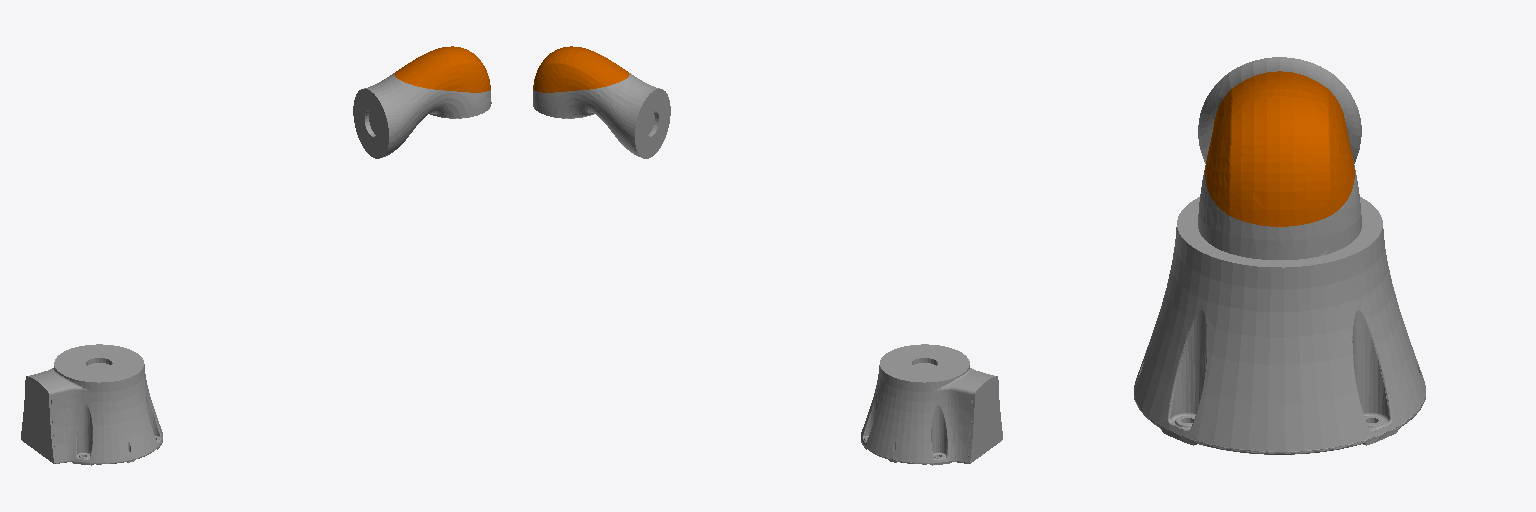
URDF robot description (kuka_kr5_arc):
<?xml version="1.0" encoding="utf-8"?>
<!-- =================================================================================== -->
<!-- |    This document was autogenerated by xacro from kr5_arc.xacro                  | -->
<!-- |    EDITING THIS FILE BY HAND IS NOT RECOMMENDED                                 | -->
<!-- =================================================================================== -->
<robot name="kuka_kr5_arc">
  <!-- LINKS -->
  <!-- base link -->
  <link name="base_link">
    <inertial>
      <origin rpy="0 0 0" xyz="-0.017519394031846 8.11394768450848E-07 0.0975924044854325"/>
      <mass value="7.58585707666653"/>
      <inertia ixx="0.0441803207364147" ixy="5.37433593375545E-07" ixz="0.004045564920652" iyy="0.0584309411563095" iyz="-4.8990117845347E-07" izz="0.0514875586171667"/>
    </inertial>
    <visual>
      <origin rpy="0 0 0" xyz="0 0 0"/>
      <geometry>
        <mesh filename="./meshes/kr5_arc/visual/base_link.dae"/>
      </geometry>
    </visual>
    <collision>
      <origin rpy="0 0 0" xyz="0 0 0"/>
      <geometry>
        <mesh filename="./meshes/kr5_arc/collision/base_link.stl"/>
      </geometry>
    </collision>
  </link>
  <!-- link 1 (A1) -->
  <link name="link_1">
    <inertial>
      <origin rpy="0 0 0" xyz="0.0359968408135882 0.00783796591813503 -0.0864969937502713"/>
      <mass value="5.77242340173648"/>
      <inertia ixx="0.0327019582662897" ixy="-0.00189987845379704" ixz="0.00937014136132958" iyy="0.0373787564144547" iyz="-0.00197023031658988" izz="0.0348614383349291"/>
    </inertial>
    <visual>
      <origin rpy="0 0 0" xyz="0 0 0"/>
      <geometry>
        <mesh filename="./meshes/kr5_arc/visual/link_1.dae"/>
      </geometry>
    </visual>
    <collision>
      <origin rpy="0 0 0" xyz="0 0 0"/>
      <geometry>
        <mesh filename="./meshes/kr5_arc/collision/link_1.stl"/>
      </geometry>
    </collision>
  </link>
  <!-- link 2 -->
  <link name="link_2">
    <inertial>
      <origin rpy="0 0 0" xyz="0.00610231661046294 0.0401115026555897 -0.11531122862673"/>
      <mass value="4.64974639735464"/>
      <inertia ixx="0.0663459530931455" ixy="0.000173652478770081" ixz="0.000586191290902105" iyy="0.070407913174161" iyz="-0.00203071071007864" izz="0.0102816377550493"/>
    </inertial>
    <visual>
      <origin rpy="0 0 0" xyz="0 0 0"/>
      <geometry>
        <mesh filename="./meshes/kr5_arc/visual/link_2.dae"/>
      </geometry>
    </visual>
    <collision>
      <origin rpy="0 0 0" xyz="0 0 0"/>
      <geometry>
        <mesh filename="./meshes/kr5_arc/collision/link_2.stl"/>
      </geometry>
    </collision>
  </link>
  <!-- link 3 -->
  <link name="link_3">
    <inertial>
      <origin rpy="0 0 0" xyz="0.0755031858462784 -0.046481517407519 -0.00506472105904233"/>
      <mass value="4.3593398708568"/>
      <inertia ixx="0.0202008069207718" ixy="5.72394748332304E-05" ixz="0.000556621203065716" iyy="0.0246796752429931" iyz="0.000697020296811431" izz="0.0178067561136726"/>
    </inertial>
    <visual>
      <origin rpy="0 0 0" xyz="0 0 0"/>
      <geometry>
        <mesh filename="./meshes/kr5_arc/visual/link_3.dae"/>
      </geometry>
    </visual>
    <collision>
      <origin rpy="0 0 0" xyz="0 0 0"/>
      <geometry>
        <mesh filename="./meshes/kr5_arc/collision/link_3.stl"/>
      </geometry>
    </collision>
  </link>
  <!-- link 4 -->
  <link name="link_4">
    <inertial>
      <origin rpy="0 0 0" xyz="0.0857493724873204 -0.00149370513017266 -0.00271609825446984"/>
      <mass value="2.06809715541017"/>
      <inertia ixx="0.00444943757623485" ixy="-0.000424915429214687" ixz="-0.000117340671961173" iyy="0.00882693069799353" iyz="0.000136971152627904" izz="0.0101131228921778"/>
    </inertial>
    <visual>
      <origin rpy="0 0 0" xyz="0 0 0"/>
      <geometry>
        <mesh filename="./meshes/kr5_arc/visual/link_4.dae"/>
      </geometry>
    </visual>
    <collision>
      <origin rpy="0 0 0" xyz="0 0 0"/>
      <geometry>
        <mesh filename="./meshes/kr5_arc/collision/link_4.stl"/>
      </geometry>
    </collision>
  </link>
  <!-- link 5 -->
  <link name="link_5">
    <inertial>
      <origin rpy="0 0 0" xyz="0 0 0"/>
      <mass value="0.328309098974388"/>
      <inertia ixx="0.000221789219477276" ixy="-9.59628913869705E-07" ixz="1.40395663663479E-20" iyy="0.000321152451627032" iyz="-4.44973606670705E-20" izz="0.000275966419870925"/>
    </inertial>
    <visual>
      <origin rpy="0 0 0" xyz="0 0 0"/>
      <geometry>
        <mesh filename="./meshes/kr5_arc/visual/link_5.dae"/>
      </geometry>
    </visual>
    <collision>
      <origin rpy="0 0 0" xyz="0 0 0"/>
      <geometry>
        <mesh filename="./meshes/kr5_arc/collision/link_5.stl"/>
      </geometry>
    </collision>
  </link>
  <!-- link 6 -->
  <link name="link_6">
    <inertial>
      <origin rpy="0 0 0" xyz="0.00983949894991115 -2.78372724487979E-05 -1.11022302462516E-15"/>
      <mass value="0.0789494717998531"/>
      <inertia ixx="3.53285039019399E-05" ixy="-3.23299732456798E-08" ixz="-6.9643163510009E-19" iyy="2.30177957763861E-05" iyz="-9.26550270485857E-19" izz="2.28539400944714E-05"/>
    </inertial>
    <visual>
      <origin rpy="0 0 0" xyz="0 0 0"/>
      <geometry>
        <mesh filename="./meshes/kr5_arc/visual/link_6.dae"/>
      </geometry>
    </visual>
    <collision>
      <origin rpy="0 0 0" xyz="0 0 0"/>
      <geometry>
        <mesh filename="./meshes/kr5_arc/collision/link_6.stl"/>
      </geometry>
    </collision>
  </link>
  <!-- tool link -->
  <!-- This frame corresponds to the $FLANGE coordinate system in KUKA KRC controllers. -->
  <link name="tool0"/>
  <!-- END LINKS -->
  <!-- JOINTS -->
  <!-- joint 1 (A1) -->
  <joint name="joint_a1" type="revolute">
    <origin rpy="3.14159265359 0 0" xyz="0 0 0.4"/>
    <parent link="base_link"/>
    <child link="link_1"/>
    <axis xyz="0 0 1"/>
    <limit effort="0" lower="-2.70526034059" upper="2.70526034059" velocity="2.68780704807"/>
  </joint>
  <!-- joint 2 (A2) -->
  <joint name="joint_a2" type="revolute">
    <origin rpy="1.57079632679 0 0" xyz="0.18 0 0"/>
    <parent link="link_1"/>
    <child link="link_2"/>
    <axis xyz="0 0 1"/>
    <limit effort="0" lower="-3.14159265359" upper="1.1344640138" velocity="2.68780704807"/>
  </joint>
  <!-- joint 3 (A3) -->
  <joint name="joint_a3" type="revolute">
    <origin rpy="0 0 0" xyz="0.6 0 0"/>
    <parent link="link_2"/>
    <child link="link_3"/>
    <axis xyz="0 0 1"/>
    <limit effort="0" lower="-0.261799387799" upper="2.75762021815" velocity="3.97935069455"/>
  </joint>
  <!-- joint 4 (A4) -->
  <joint name="joint_a4" type="revolute">
    <origin rpy="0 -1.57079632679 0" xyz="0 -0.12 0"/>
    <parent link="link_3"/>
    <child link="link_4"/>
    <axis xyz="0 0 1"/>
    <limit effort="0" lower="-6.10865238198" upper="6.10865238198" velocity="5.98647933434"/>
  </joint>
  <!-- joint 5 (A5) -->
  <joint name="joint_a5" type="revolute">
    <origin rpy="0 1.57079632679 0" xyz="0 0 -0.62"/>
    <parent link="link_4"/>
    <child link="link_5"/>
    <axis xyz="0 0 1"/>
    <limit effort="0" lower="-2.26892802759" upper="2.26892802759" velocity="6.70206432766"/>
  </joint>
  <!-- joint 6 (A6) -->
  <joint name="joint_a6" type="revolute">
    <origin rpy="0 -1.57079632679 0" xyz="0 0 0"/>
    <parent link="link_5"/>
    <child link="link_6"/>
    <axis xyz="0 0 1"/>
    <limit effort="0" lower="-6.10865238198" upper="6.10865238198" velocity="12.5838239069"/>
  </joint>
  <!-- tool frame - fixed frame -->
  <joint name="joint_a6-tool0" type="fixed">
    <parent link="link_6"/>
    <child link="tool0"/>
    <origin rpy="0 -3.14159265359 -1.57079632679" xyz="0 0 -0.115"/>
  </joint>
  <!-- END JOINTS -->
  <!-- ROS base_link to KUKA $ROBROOT coordinate system transform -->
  <link name="base"/>
  <joint name="base_link-base" type="fixed">
    <origin rpy="0 0 0" xyz="0 0 0"/>
    <parent link="base_link"/>
    <child link="base"/>
  </joint>
</robot>

--- Render facts (derived) ---
Views: 3 orthographic renders of the robot side by side, from view 1: azimuth 30°, elevation 25°; view 2: azimuth 150°, elevation 25°; view 3: azimuth 270°, elevation 25°.
Robot: kuka_kr5_arc — 9 links, 8 joints (6 revolute, 2 fixed); root link base_link; default pose: every joint at zero.
Links seen in each view (by area): view 1: base_link, link_4; view 2: base_link, link_4; view 3: base_link, link_4.
Link boxes in pixels (x1,y1,x2,y2): base_link: [21, 344, 162, 465]; link_4: [353, 46, 491, 158]; base_link: [861, 344, 1002, 465]; link_4: [533, 46, 670, 158]; base_link: [1134, 197, 1425, 454]; link_4: [1198, 57, 1361, 259].
Size in the robot's own frame: 0.984 by 0.2426 by 0.6345 metres.
2 mesh visuals loaded from 7 distinct referenced files (2 Collada DAE); not drawn: 5 (reference not matched to a file when rendering).